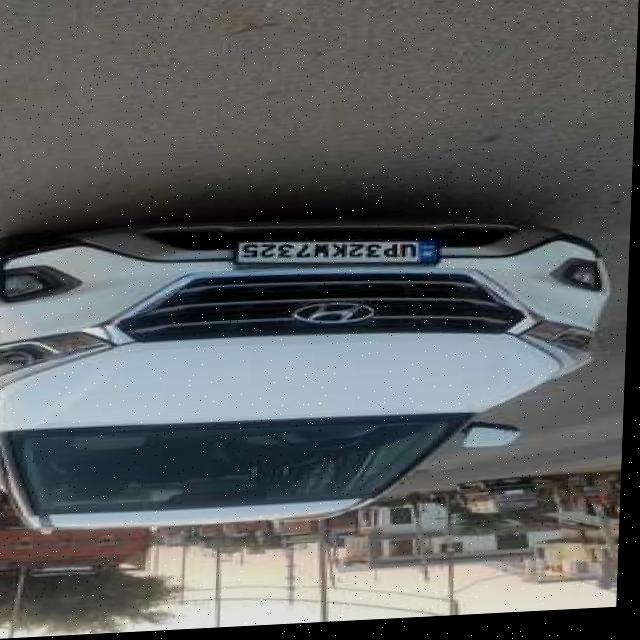plate: (236, 233, 446, 280)
